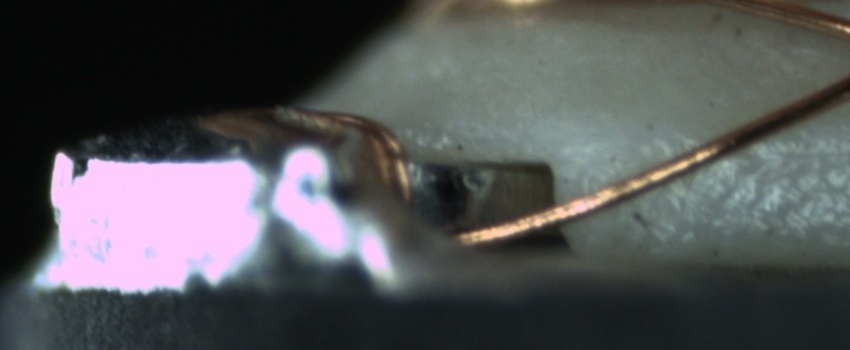DL: (678, 123, 848, 182)
TE: (272, 101, 413, 215)
